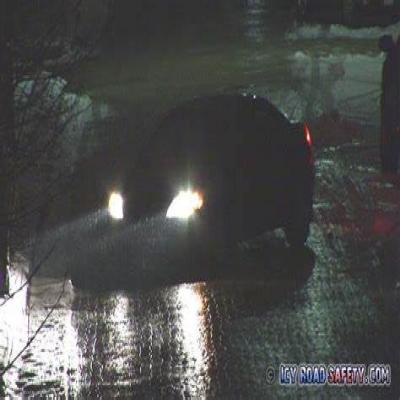iced-road: (75, 146, 400, 399)
